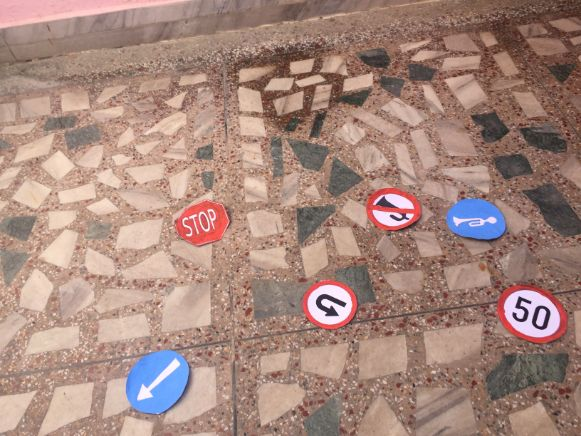blow-horn: (447, 199, 508, 242)
keep-left: (128, 349, 188, 414)
no-horn: (368, 187, 421, 231)
speed-50: (499, 284, 568, 342)
stop: (175, 200, 231, 247)
u-turn: (303, 280, 358, 329)
